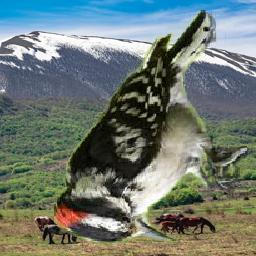Woodpecker: (55, 11, 248, 248)
